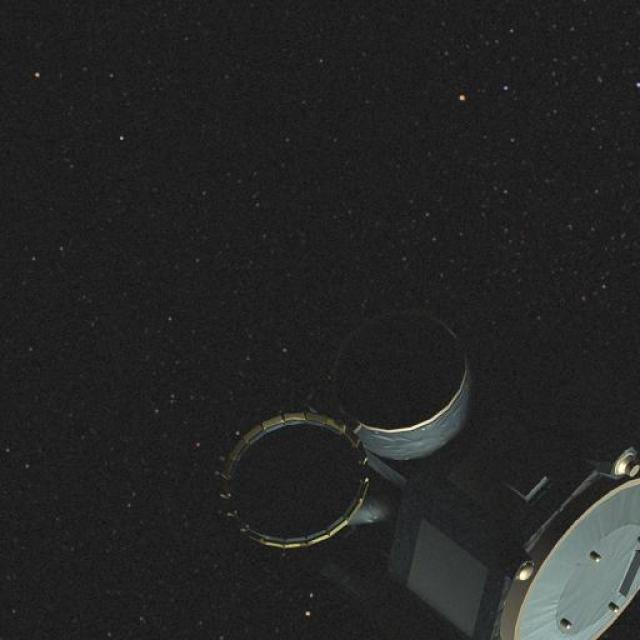cheops: (221, 281, 638, 640)
